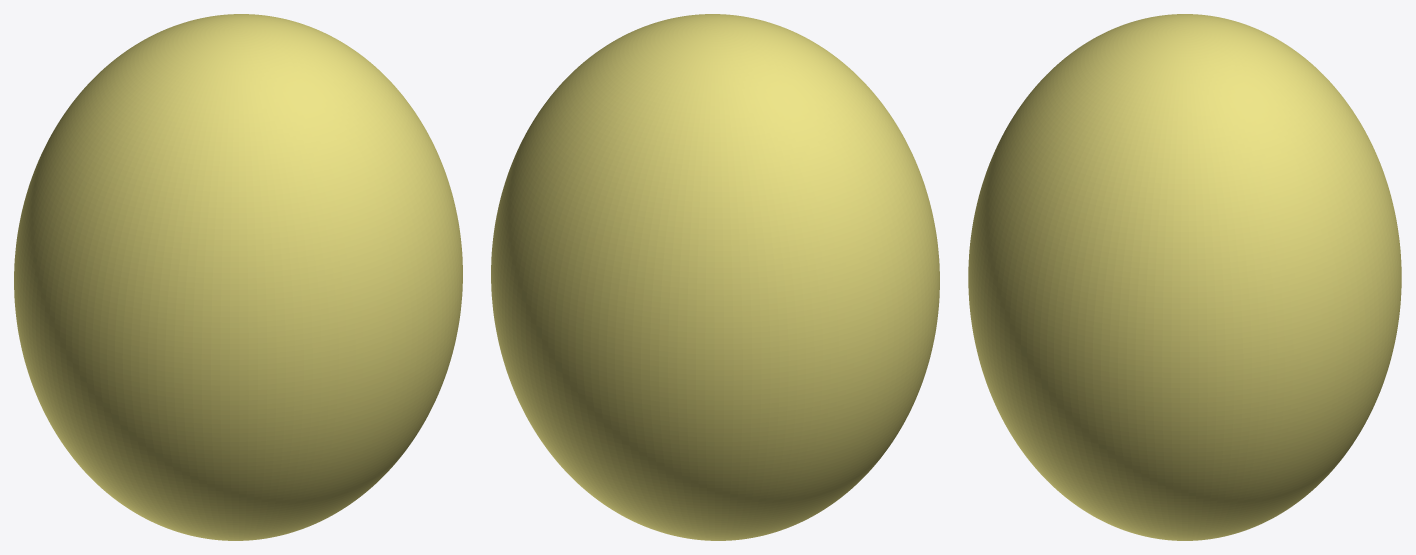
Rendered from Egg.fbx.
The picture shows the model from 3 angles, left to right: view 1: azimuth 30°, elevation 25°; view 2: azimuth 150°, elevation 25°; view 3: azimuth 270°, elevation 25°; orthographic projection.
Parts seen in each view (by area): view 1: Sphere; view 2: Sphere; view 3: Sphere.
Boxes of the visible parts, bbox=[...] form: Sphere: bbox=[14, 14, 462, 540]; Sphere: bbox=[491, 14, 939, 540]; Sphere: bbox=[968, 14, 1401, 540].
Size of the model in its own units: 161 by 193 by 154.
